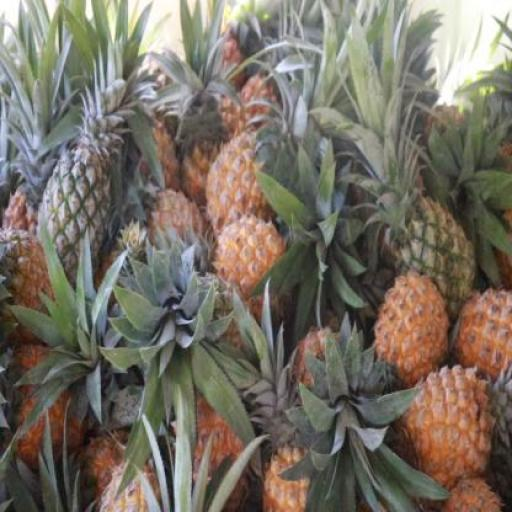Pineapple - v8 v1: (408, 370, 494, 494), (374, 279, 451, 393), (208, 147, 279, 249), (214, 222, 286, 310)
